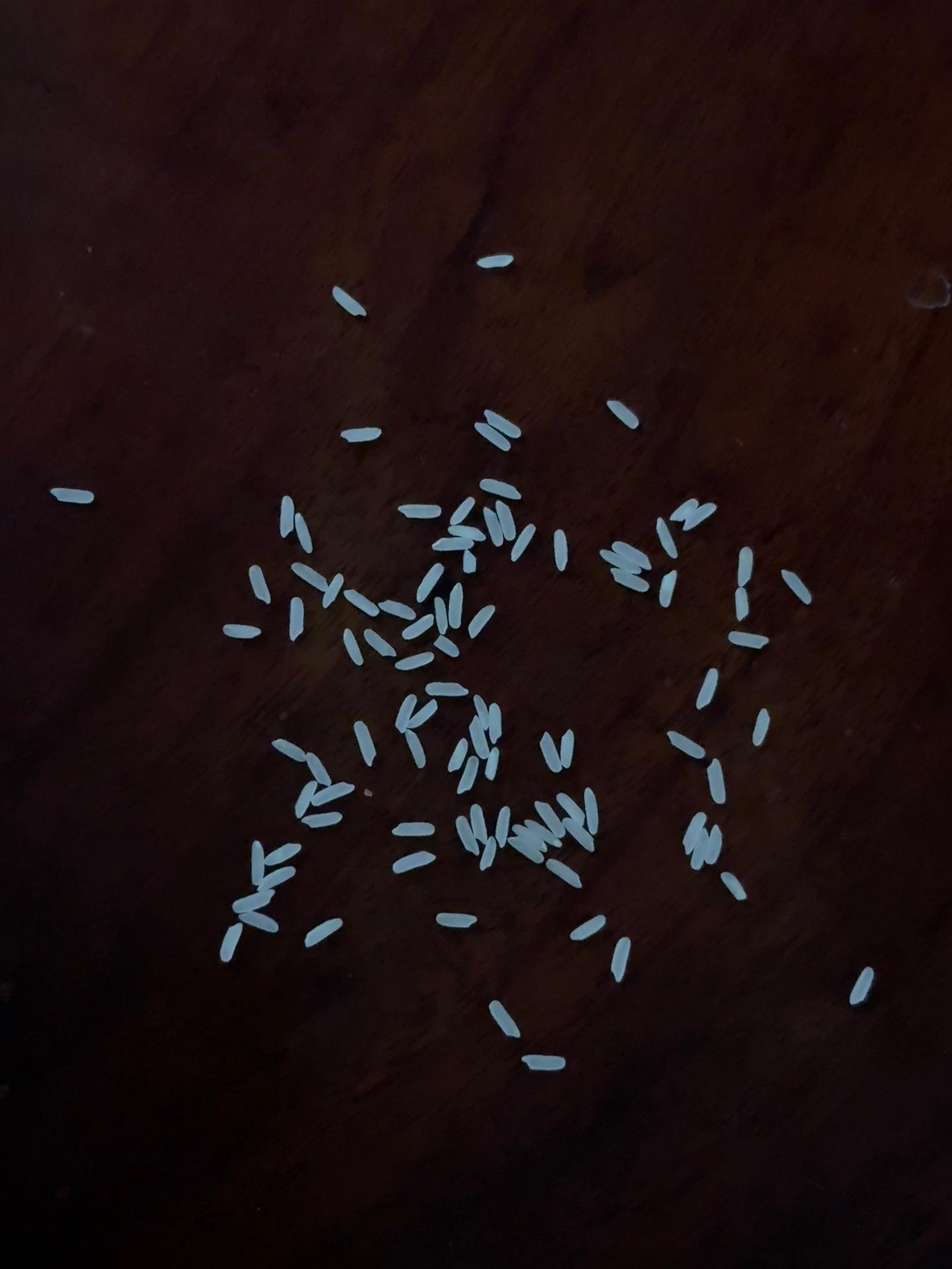Rice-th-y-nh: (702, 758, 732, 804), (441, 583, 470, 629), (612, 539, 653, 571), (414, 562, 445, 603), (488, 1000, 521, 1038), (290, 561, 329, 593), (352, 719, 378, 766), (780, 568, 813, 605), (534, 800, 565, 839), (523, 818, 562, 849), (303, 918, 343, 948), (666, 729, 706, 759), (473, 420, 511, 451), (599, 547, 641, 575), (310, 781, 355, 807), (563, 817, 596, 852), (343, 587, 380, 618), (546, 857, 583, 888), (555, 791, 586, 827), (484, 409, 521, 439), (508, 834, 545, 864), (610, 567, 651, 594), (332, 286, 367, 317), (480, 506, 506, 547), (580, 788, 603, 834), (467, 715, 491, 759), (466, 604, 496, 639), (682, 501, 717, 531), (654, 517, 679, 559), (479, 476, 521, 501), (285, 596, 308, 641), (654, 570, 681, 608), (695, 668, 720, 709), (393, 693, 418, 734), (494, 500, 519, 541), (407, 699, 439, 731), (363, 628, 397, 658), (606, 399, 640, 429), (510, 523, 536, 562), (454, 816, 480, 855), (218, 923, 244, 962), (610, 937, 633, 981), (304, 751, 332, 787), (682, 812, 707, 852), (392, 850, 435, 873), (232, 890, 275, 913), (849, 967, 875, 1005), (456, 756, 481, 795), (293, 779, 318, 818), (428, 596, 453, 635), (570, 915, 607, 941), (276, 495, 298, 538), (248, 565, 272, 604), (257, 866, 296, 890), (378, 597, 417, 621), (430, 534, 474, 555), (247, 841, 268, 885), (239, 910, 279, 933), (404, 728, 427, 768), (484, 703, 507, 743), (401, 614, 435, 641), (341, 628, 365, 666), (52, 485, 95, 506), (468, 803, 490, 844), (424, 679, 469, 699), (263, 843, 302, 866), (448, 496, 476, 528), (539, 732, 561, 772), (395, 650, 435, 672), (272, 738, 307, 763), (293, 513, 314, 554), (735, 546, 756, 587), (321, 573, 345, 608), (727, 630, 769, 650), (493, 806, 513, 848), (551, 529, 571, 571), (512, 824, 545, 849), (398, 502, 443, 520), (446, 738, 469, 773), (720, 871, 747, 900), (447, 523, 486, 543), (704, 826, 724, 865), (521, 1054, 566, 1071), (301, 811, 343, 829), (471, 694, 492, 730), (689, 834, 710, 870), (670, 497, 698, 523), (393, 820, 435, 837), (435, 912, 477, 929), (752, 708, 771, 745), (341, 426, 382, 443), (476, 252, 514, 270), (478, 836, 498, 870), (433, 634, 460, 658), (559, 730, 576, 768), (221, 623, 261, 639), (484, 747, 501, 781), (733, 587, 750, 621), (460, 549, 479, 574)
